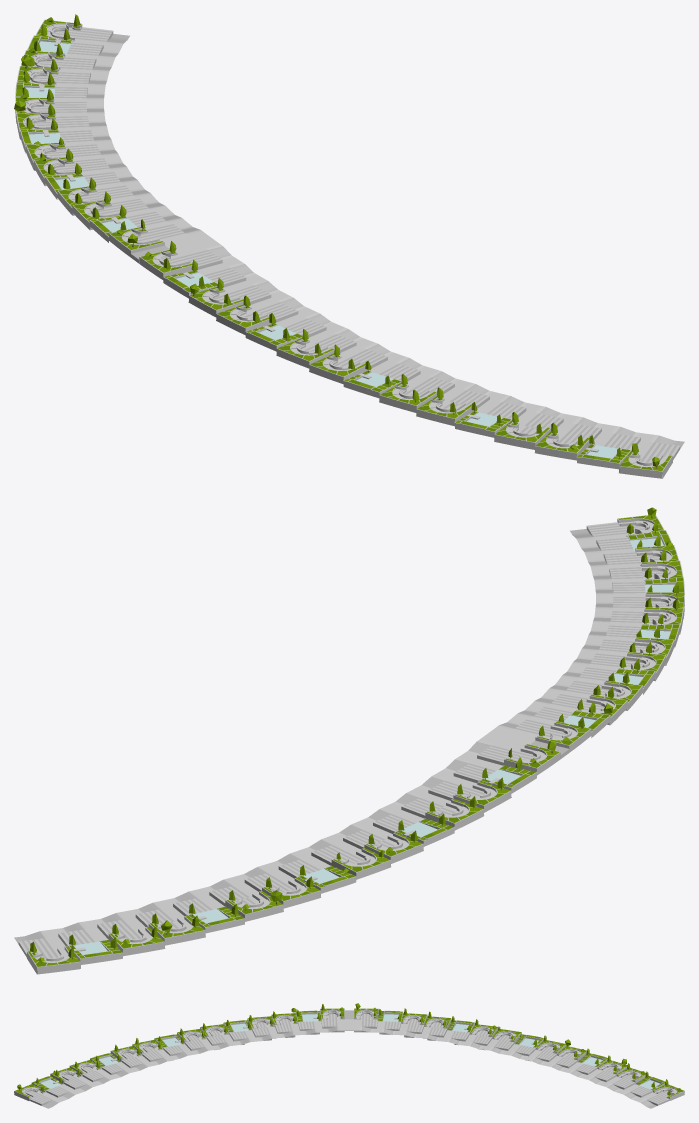
File: ring8_segment_low.glb
3 renders of one model, top to bottom at view 1: azimuth 30°, elevation 25°; view 2: azimuth 150°, elevation 25°; view 3: azimuth 270°, elevation 25°, orthographic. The views are drawn at different scales.
Visible parts, largest first — view 1: RING_8_MOD_LOW; view 2: RING_8_MOD_LOW; view 3: RING_8_MOD_LOW.
Boxes of the visible parts, bbox=[...] form: RING_8_MOD_LOW: bbox=[14, 14, 684, 478]; RING_8_MOD_LOW: bbox=[14, 507, 684, 974]; RING_8_MOD_LOW: bbox=[14, 1003, 684, 1108].
Size of the model in its own units: 7943 by 1811 by 31167.
